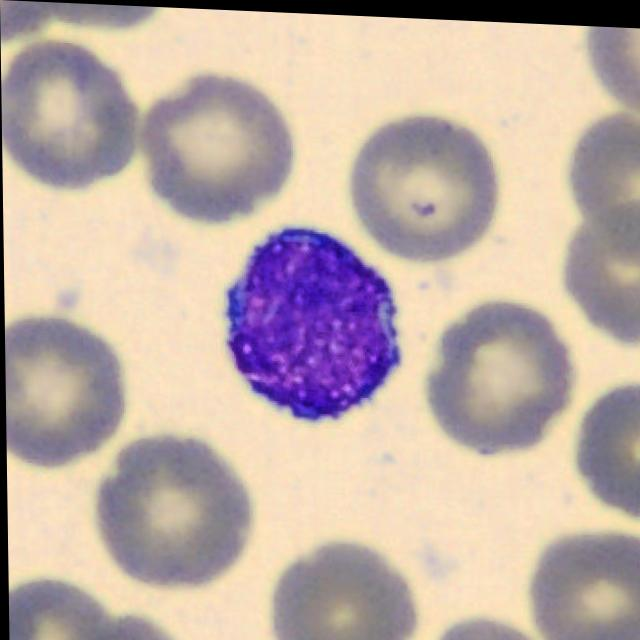Linfocito: (224, 223, 399, 416)
